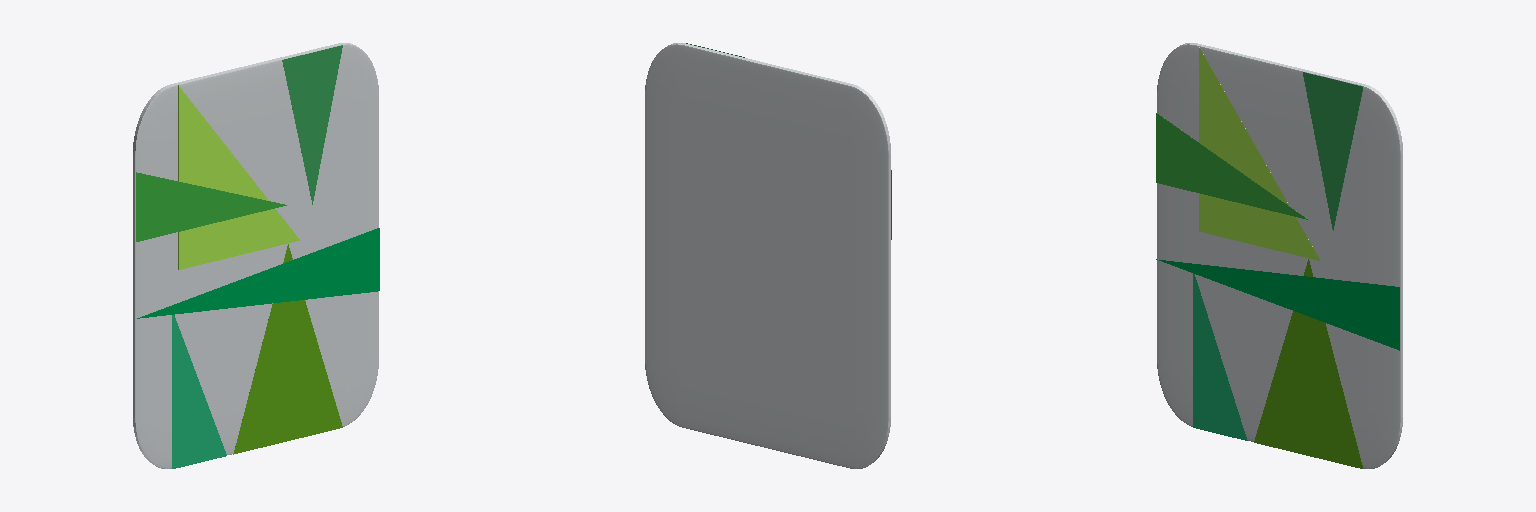
Rendered from tinker.obj.
3 views of the same model, side by side, from view 1: azimuth 30°, elevation 25°; view 2: azimuth 150°, elevation 25°; view 3: azimuth 330°, elevation 25° (orthographic).
Visible parts, largest first — view 1: obj_0; view 2: obj_0; view 3: obj_0.
Part boxes in pixels (x1,y1,x2,y2): obj_0: (133, 43, 379, 468); obj_0: (645, 43, 891, 468); obj_0: (1156, 43, 1402, 468).
Size of the model in its own units: 40 by 60 by 1.01.